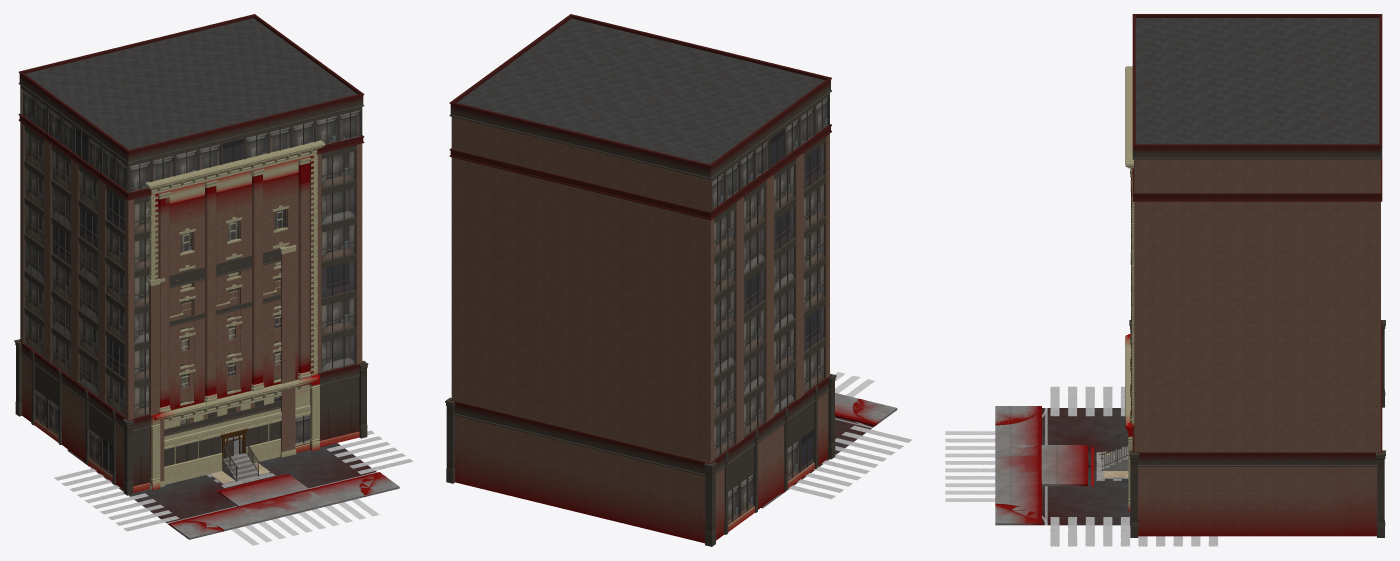
Rendered from city.glb.
3 views of the same model, side by side, from view 1: azimuth 30°, elevation 25°; view 2: azimuth 150°, elevation 25°; view 3: azimuth 270°, elevation 25° (orthographic). The views are drawn at different scales.
Visible parts, largest first — view 1: Building_Large_2, Building_Medium_2.001, Building_Small_1, Street_4WayIntersection, Street_TIntersection, Street_2Lane, Street_4Lane; view 2: Building_Large_2, Street_4WayIntersection, Street_TIntersection; view 3: Building_Large_2, Street_4WayIntersection, Street_TIntersection, Building_Medium_2.001, Street_2Lane, Street_4Lane, Building_Small_1.
Part boxes in pixels (x1,y1,x2,y2): Building_Large_2: (14,14,368,495); Building_Medium_2.001: (145,140,325,490); Building_Small_1: (148,245,296,489); Street_4WayIntersection: (54,430,412,545); Street_TIntersection: (55,431,412,533); Street_2Lane: (216,474,308,506); Street_4Lane: (240,460,329,519); Building_Large_2: (445,14,836,546); Street_4WayIntersection: (761,370,911,508); Street_TIntersection: (789,393,911,498); Building_Large_2: (1129,14,1385,537); Street_4WayIntersection: (945,386,1217,546); Street_TIntersection: (995,387,1217,545); Building_Medium_2.001: (1125,66,1134,511); Street_2Lane: (1041,445,1101,486); Street_4Lane: (995,445,1041,483); Building_Small_1: (1098,180,1130,470).
Bounding box in the file's own units: 24.67 × 28.2 × 28.66.
Materials: 14 (12 with a texture image).
